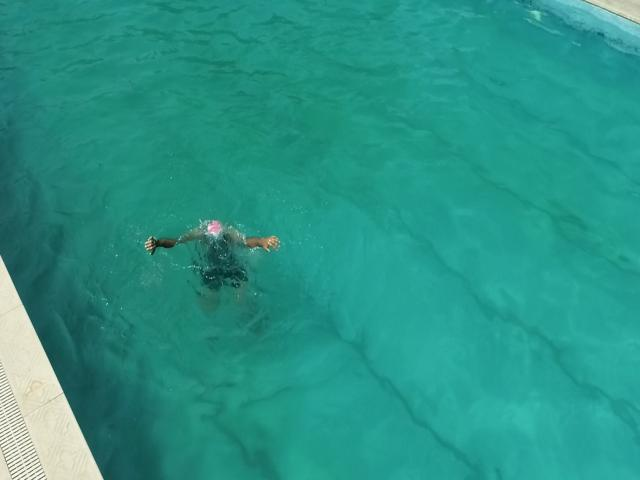swimming: (144, 217, 280, 306)
